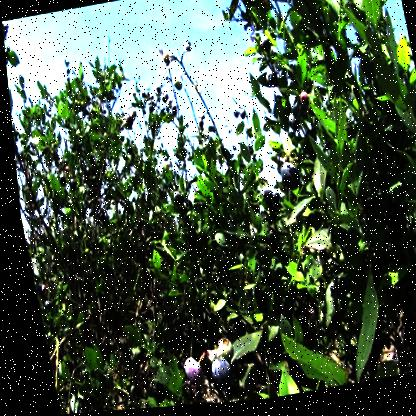intermediate: (296, 94, 311, 116)
mature: (174, 354, 202, 398), (272, 164, 299, 200), (202, 361, 227, 391), (283, 114, 299, 138), (262, 70, 276, 96), (259, 35, 273, 59)
young: (207, 336, 229, 368), (170, 80, 183, 97)
